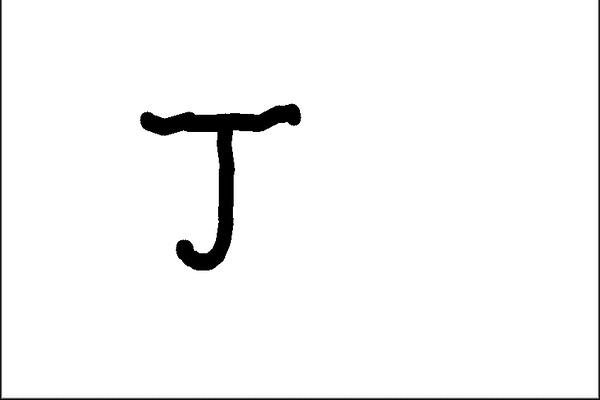J: (132, 99, 308, 277)
